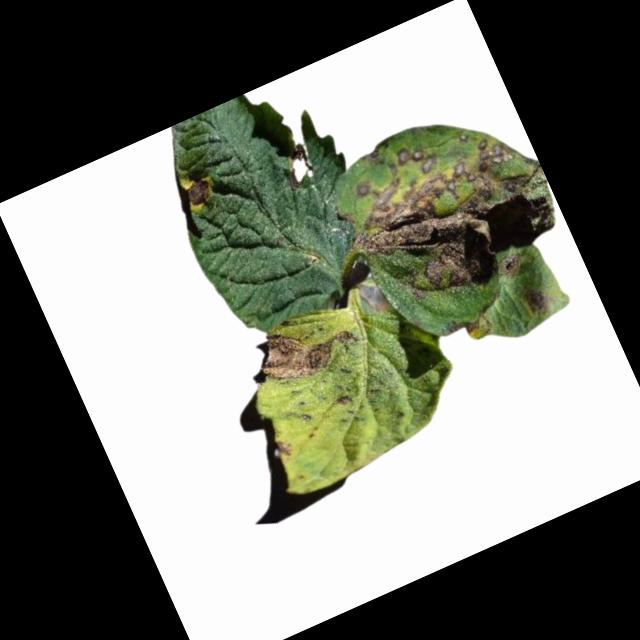Early_blight: (328, 101, 574, 323), (249, 303, 365, 395), (276, 141, 318, 192), (446, 307, 494, 347), (181, 172, 219, 213), (521, 285, 554, 317), (496, 249, 529, 281), (274, 439, 294, 460), (334, 391, 352, 410)
